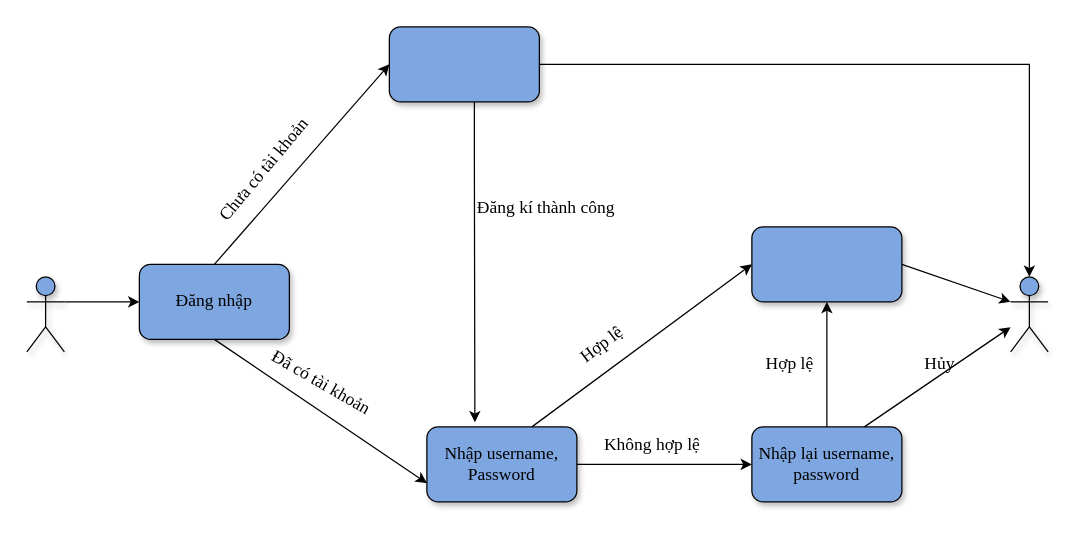
Image size: 1078x533. Some labels were removed from this diagram. Each missing label, with the centre of its shape:
Cho phép truy cập: (x=827, y=266)
Đăng ký: (x=465, y=66)
